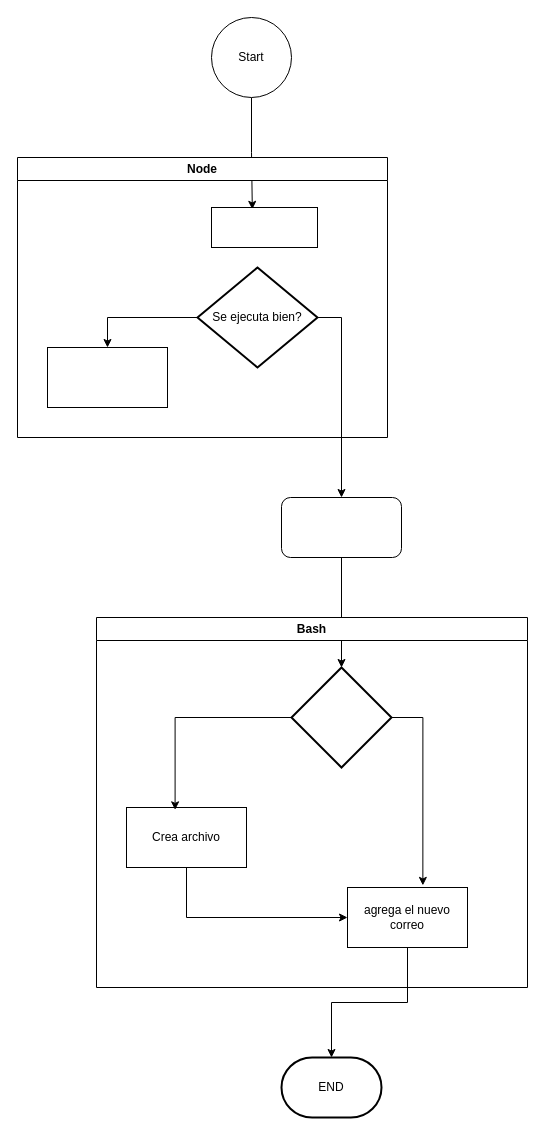
The diagram is 545 pixels wide and 1136 high, and some of its shapes have lost their labels. Each missing label, with the centre of its shape:
console.log(err): pixel 107 377
Ejecutar cmd.sh: pixel 264 227
existe emails.txt: pixel 341 717
Term: pixel 341 527
